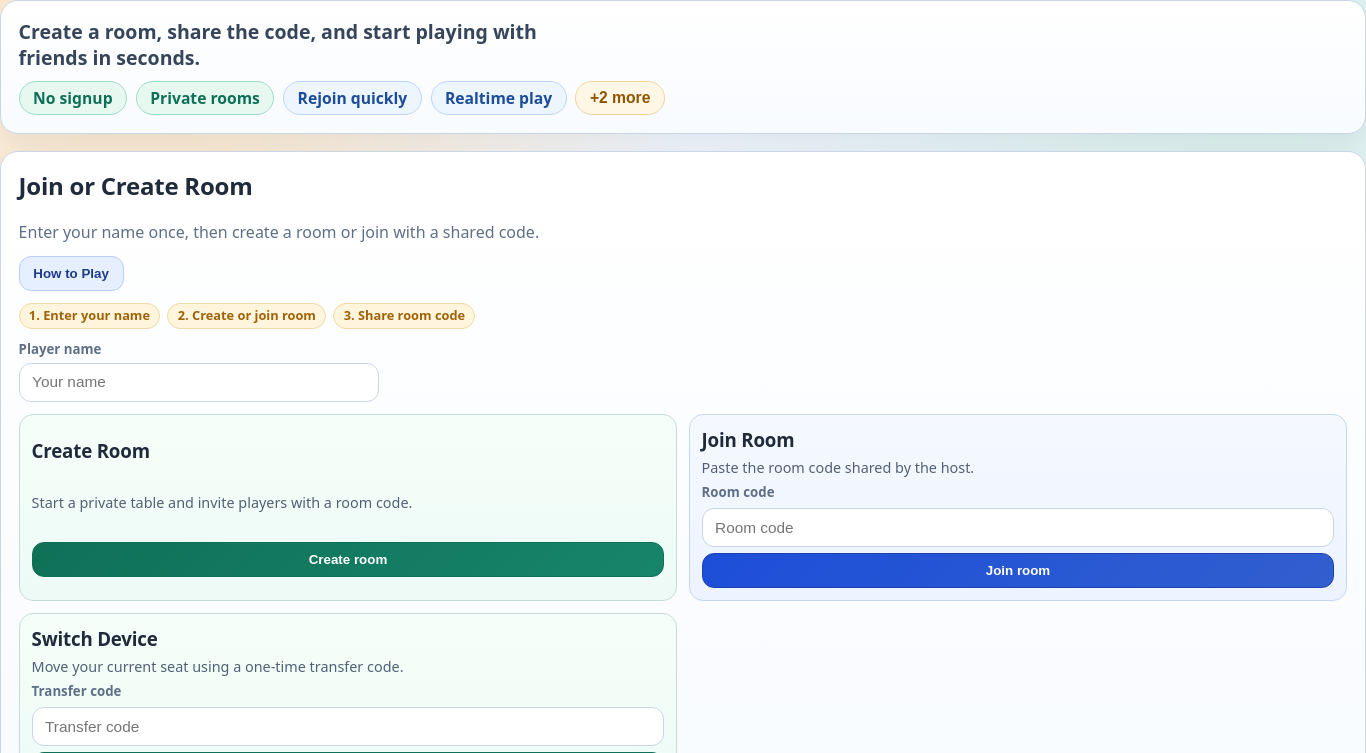
it: GameClient › opens how to play modal from lobby
Click the button "How to Play": (71, 273) [19, 256, 124, 291]
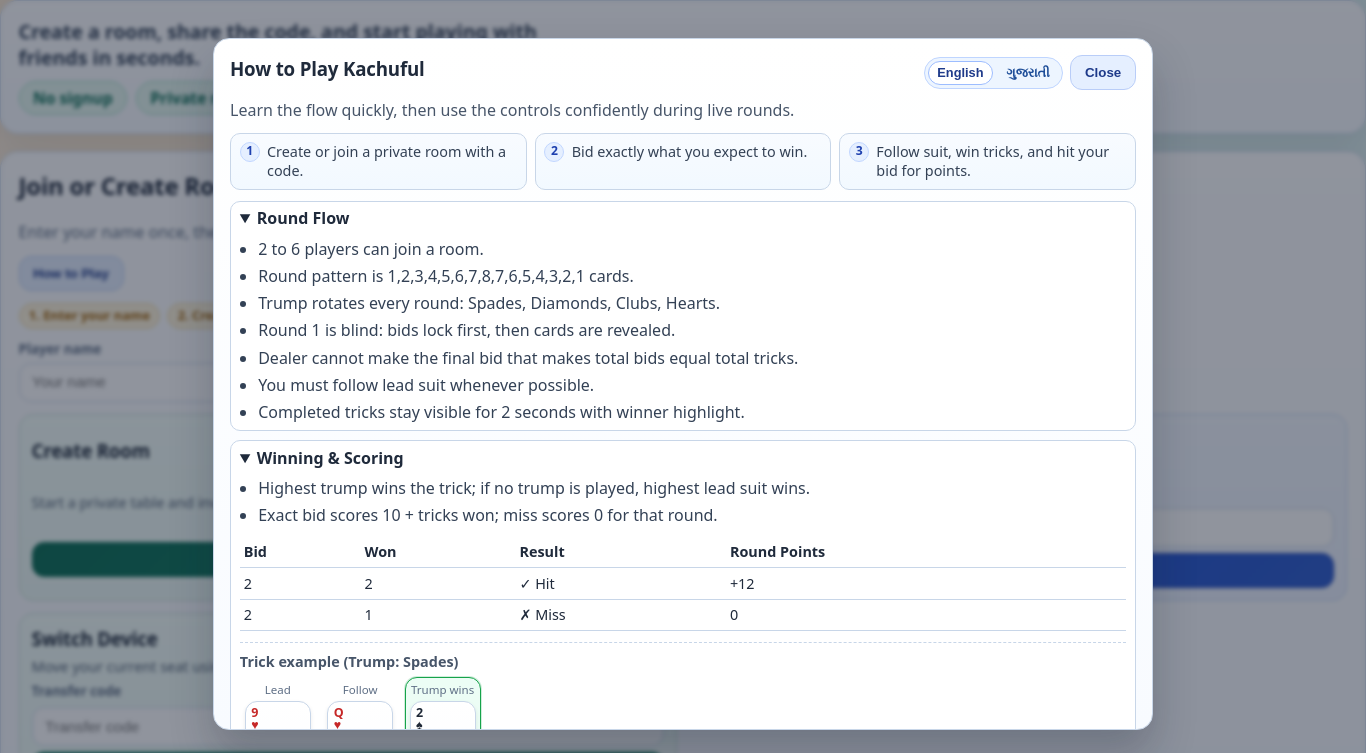
expect the heading "How to Play Kachuful" is shown: met, box [230, 56, 425, 82]
Click the button "Close": (1103, 73) [1070, 55, 1136, 90]
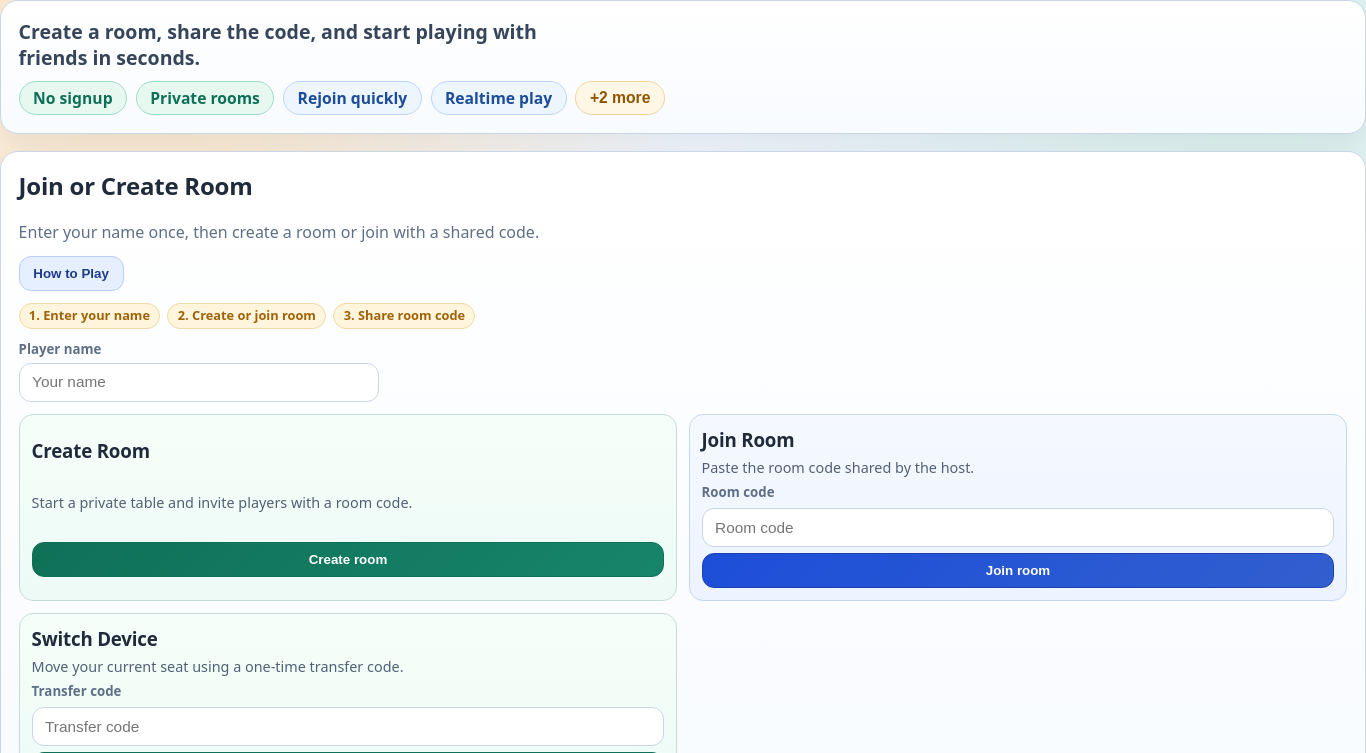
expect the heading "How to Play Kachuful" is gone: met
